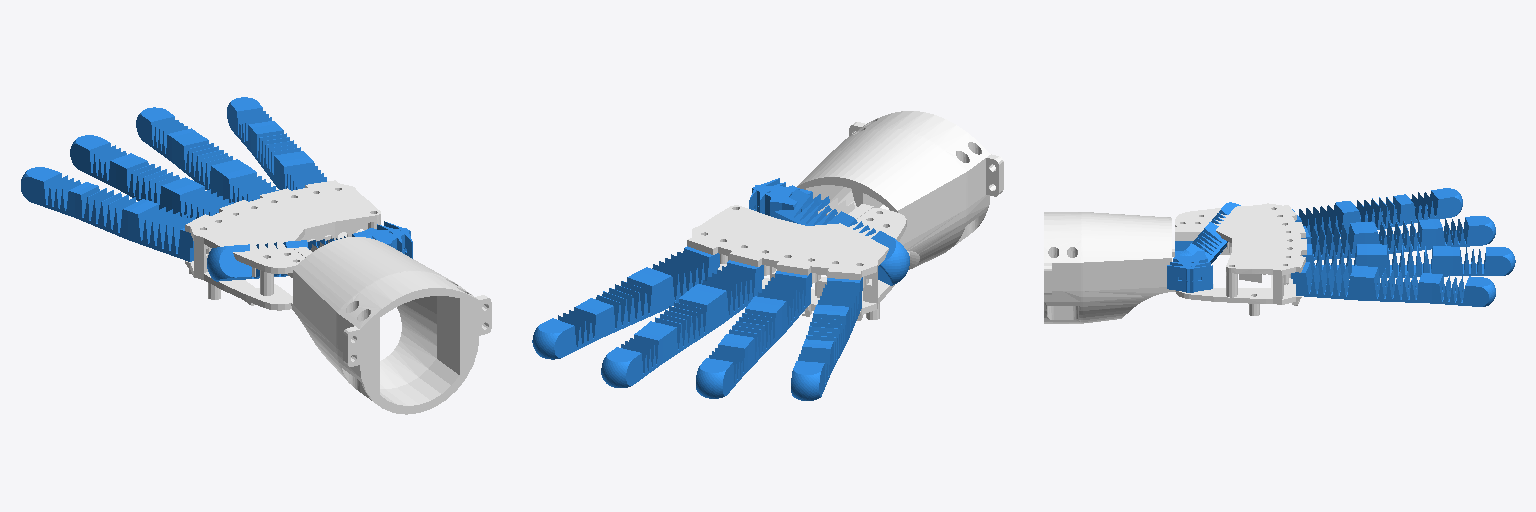
robot.urdf — soft_hand_right_hand_only:
<?xml version='1.0' encoding='utf-8'?>
<robot name="soft_hand_right_hand_only">
  <link name="base_link">
    <inertial>
      <origin xyz="-0.00107591330704606 0.0602157979187562 0.00535241433960498" rpy="0 0 0" />
      <mass value="0.07159" />
      <inertia ixx="0.00053099" ixy="0.00003741" ixz="0.00000288" iyy="0.00020204" iyz="-0.00000817" izz="0.00071323" />
    </inertial>
    <visual>
      <origin xyz="0 0 0" rpy="0 0 0" />
      <geometry>
        <mesh filename="soft_hand_meshes/base_link.STL" />
      </geometry>
      <material name="">
        <color rgba="1 1 1 1" />
      </material>
    </visual>
    <collision>
      <origin xyz="0 0 0" rpy="0 0 0" />
      <geometry>
        <mesh filename="soft_hand_meshes/base_link.STL" />
      </geometry>
    </collision>
  </link>
  <link name="thumb_link_1">
    <inertial>
      <origin xyz="-0.000226412738771394 0.0175408958405082 0.00463891942054738" rpy="0 0 0" />
      <mass value="0.00608" />
      <inertia ixx="0.00003292" ixy="0.00000942" ixz="0.00000000" iyy="0.00000364" iyz="0.00000002" izz="0.00003590" />
    </inertial>
    <visual>
      <origin xyz="0 0 0" rpy="0 0 0" />
      <geometry>
        <mesh filename="soft_hand_meshes/thumb_link_1.STL" />
      </geometry>
      <material name="">
        <color rgba="0.2431 0.6275 0.9922 1" />
      </material>
    </visual>
    <collision>
      <origin xyz="0 0 0" rpy="0 0 0" />
      <geometry>
        <mesh filename="soft_hand_meshes/thumb_link_1.STL" />
      </geometry>
    </collision>
  </link>
  <joint name="thumb_joint_1" type="revolute">
    <origin xyz="0.00370000000000005 0.078 0.00519999999999999" rpy="0 0 -1.5707963267949" />
    <parent link="base_link" />
    <child link="thumb_link_1" />
    <axis xyz="-1 0 0" />
    <limit effort="10" lower="-3.14" upper="3.14" velocity="3.14" />
  </joint>
  <link name="thumb_link_2">
    <inertial>
      <origin xyz="-0.000139719381694098 0.0172591580922161 0.00513230643483387" rpy="0 0 0" />
      <mass value="0.00626" />
      <inertia ixx="0.00003590" ixy="0.00000002" ixz="0.00000000" iyy="0.00000101" iyz="0.00000219" izz="0.00003555" />
    </inertial>
    <visual>
      <origin xyz="0 0 0" rpy="0 0 0" />
      <geometry>
        <mesh filename="soft_hand_meshes/thumb_link_2.STL" />
      </geometry>
      <material name="">
        <color rgba="0.2431 0.6275 0.9922 1" />
      </material>
    </visual>
    <collision>
      <origin xyz="0 0 0" rpy="0 0 0" />
      <geometry>
        <mesh filename="soft_hand_meshes/thumb_link_2.STL" />
      </geometry>
    </collision>
  </link>
  <joint name="thumb_joint_2" type="revolute">
    <origin xyz="0.000134721619996156 0.0352198393444275 0.00520000000000001" rpy="2.79252680319093 -1.5707963267949 0" />
    <parent link="thumb_link_1" />
    <child link="thumb_link_2" />
    <axis xyz="-1 0 0" />
    <limit effort="10" lower="-3.14" upper="3.14" velocity="3.14" />
  </joint>
  <link name="thumb_link_3">
    <inertial>
      <origin xyz="2.13906234059549E-05 0.0139021682913982 0.00411203004701091" rpy="0 0 0" />
      <mass value="0.00402" />
      <inertia ixx="0.00003582" ixy="-0.00000108" ixz="0.00000015" iyy="0.00000101" iyz="0.00000191" izz="0.00003564" />
    </inertial>
    <visual>
      <origin xyz="0 0 0" rpy="0 0 0" />
      <geometry>
        <mesh filename="soft_hand_meshes/thumb_link_3.STL" />
      </geometry>
      <material name="">
        <color rgba="0.2431 0.6275 0.9922 1" />
      </material>
    </visual>
    <collision>
      <origin xyz="0 0 0" rpy="0 0 0" />
      <geometry>
        <mesh filename="soft_hand_meshes/thumb_link_3.STL" />
      </geometry>
    </collision>
  </link>
  <joint name="thumb_joint_3" type="revolute">
    <origin xyz="-0.0026 0.0359371968514815 0.00143765018824065" rpy="0 0.5235987755983 0" />
    <parent link="thumb_link_2" />
    <child link="thumb_link_3" />
    <axis xyz="1 0 0" />
    <limit effort="10" lower="-3.14" upper="3.14" velocity="3.14" />
  </joint>
  <link name="thumb_link_4">
    <inertial>
      <origin xyz="1.4425202060981E-05 0.0138913361178382 0.00460127404940413" rpy="0 0 0" />
      <mass value="0.00474" />
      <inertia ixx="0.00003582" ixy="-0.00000108" ixz="0.00000015" iyy="0.00000101" iyz="0.00000191" izz="0.00003564" />
    </inertial>
    <visual>
      <origin xyz="0 0 0" rpy="0 0 0" />
      <geometry>
        <mesh filename="soft_hand_meshes/thumb_link_4.STL" />
      </geometry>
      <material name="">
        <color rgba="0.2431 0.6275 0.9922 1" />
      </material>
    </visual>
    <collision>
      <origin xyz="0 0 0" rpy="0 0 0" />
      <geometry>
        <mesh filename="soft_hand_meshes/thumb_link_4.STL" />
      </geometry>
    </collision>
  </link>
  <joint name="thumb_joint_4" type="revolute">
    <origin xyz="0 0.0271938395294337 0" rpy="0 0 0" />
    <parent link="thumb_link_3" />
    <child link="thumb_link_4" />
    <axis xyz="-1 0 0" />
    <limit effort="10" lower="-3.14" upper="3.14" velocity="3.14" />
  </joint>
  <link name="thumb_tip"/>
  <joint name="thumb_tip_joint" type="fixed">
    <origin xyz="0 0.0271938395294337 0" rpy="0 0 0" />
    <parent link="thumb_link_4" />
    <child link="thumb_tip" />
  </joint>
  <link name="index_link_1">
    <inertial>
      <origin xyz="7.34582052623958E-06 0.00998124103173685 -0.000753138181571604" rpy="0 0 0" />
      <mass value="0.00285" />
      <inertia ixx="0.00001364" ixy="0.00000000" ixz="0.00000000" iyy="0.00000036" iyz="0.00000001" izz="0.00001365" />
    </inertial>
    <visual>
      <origin xyz="0 0 0" rpy="0 0 0" />
      <geometry>
        <mesh filename="soft_hand_meshes/index_link_1.STL" />
      </geometry>
      <material name="">
        <color rgba="0.2431 0.6275 0.9922 1" />
      </material>
    </visual>
    <collision>
      <origin xyz="0 0 0" rpy="0 0 0" />
      <geometry>
        <mesh filename="soft_hand_meshes/index_link_1.STL" />
      </geometry>
    </collision>
  </link>
  <joint name="index_joint_1" type="revolute">
    <origin xyz="0.0290264592497739 0.132227824075067 0.00740000000000001" rpy="0 0 -0.174532925199432" />
    <parent link="base_link" />
    <child link="index_link_1" />
    <axis xyz="0 0 1" />
    <limit effort="10" lower="-3.14" upper="3.14" velocity="3.14" />
  </joint>
  <link name="index_link_2">
    <inertial>
      <origin xyz="-4.45939051352869E-06 0.0180285034379962 0.00419397703051187" rpy="0 0 0" />
      <mass value="0.00542" />
      <inertia ixx="0.00001364" ixy="0.00000000" ixz="0.00000000" iyy="0.00000036" iyz="0.00000001" izz="0.00001365" />
    </inertial>
    <visual>
      <origin xyz="0 0 0" rpy="0 0 0" />
      <geometry>
        <mesh filename="soft_hand_meshes/index_link_2.STL" />
      </geometry>
      <material name="">
        <color rgba="0.2431 0.6275 0.9922 1" />
      </material>
    </visual>
    <collision>
      <origin xyz="0 0 0" rpy="0 0 0" />
      <geometry>
        <mesh filename="soft_hand_meshes/index_link_2.STL" />
      </geometry>
    </collision>
  </link>
  <joint name="index_joint_2" type="revolute">
    <origin xyz="0 0.021 -0.0052" rpy="0 0 0" />
    <parent link="index_link_1" />
    <child link="index_link_2" />
    <axis xyz="-1 0 0" />
    <limit effort="10" lower="-3.14" upper="3.14" velocity="3.14" />
  </joint>
  <link name="index_link_3">
    <inertial>
      <origin xyz="-4.33680868994202E-18 0.0152283515003216 0.00395398428215677" rpy="0 0 0" />
      <mass value="0.00369" />
      <inertia ixx="0.00001364" ixy="0.00000000" ixz="0.00000000" iyy="0.00000036" iyz="0.00000001" izz="0.00001365" />
    </inertial>
    <visual>
      <origin xyz="0 0 0" rpy="0 0 0" />
      <geometry>
        <mesh filename="soft_hand_meshes/index_link_3.STL" />
      </geometry>
      <material name="">
        <color rgba="0.2431 0.6275 0.9922 1" />
      </material>
    </visual>
    <collision>
      <origin xyz="0 0 0" rpy="0 0 0" />
      <geometry>
        <mesh filename="soft_hand_meshes/index_link_3.STL" />
      </geometry>
    </collision>
  </link>
  <joint name="index_joint_3" type="revolute">
    <origin xyz="0 0.0368687904272322 0.000296635651980327" rpy="0 0 0" />
    <parent link="index_link_2" />
    <child link="index_link_3" />
    <axis xyz="-1 0 0" />
    <limit effort="10" lower="-3.14" upper="3.14" velocity="3.14" />
  </joint>
  <link name="index_link_4">
    <inertial>
      <origin xyz="-1.15218754068863E-09 0.0121089138242129 0.00398608556627066" rpy="0 0 0" />
      <mass value="0.00302" />
      <inertia ixx="0.00001364" ixy="0.00000000" ixz="0.00000000" iyy="0.00000036" iyz="0.00000001" izz="0.00001365" />
    </inertial>
    <visual>
      <origin xyz="0 0 0" rpy="0 0 0" />
      <geometry>
        <mesh filename="soft_hand_meshes/index_link_4.STL" />
      </geometry>
      <material name="">
        <color rgba="0.2431 0.6275 0.9922 1" />
      </material>
    </visual>
    <collision>
      <origin xyz="0 0 0" rpy="0 0 0" />
      <geometry>
        <mesh filename="soft_hand_meshes/index_link_4.STL" />
      </geometry>
    </collision>
  </link>
  <joint name="index_joint_4" type="revolute">
    <origin xyz="0 0.0304312095727678 0.000503364348019689" rpy="0 0 0" />
    <parent link="index_link_3" />
    <child link="index_link_4" />
    <axis xyz="-1 0 0" />
    <limit effort="10" lower="-3.14" upper="3.14" velocity="3.14" />
  </joint>
  <link name="index_tip"/>
  <joint name="index_tip_joint" type="fixed">
    <origin xyz="0 0.0304312095727678 0.000503364348019689" rpy="0 0 0" />
    <parent link="index_link_4" />
    <child link="index_tip" />
  </joint>
  <link name="middle_link_1">
    <inertial>
      <origin xyz="7.34582052623828E-06 0.00998124103173684 -0.000753138181571605" rpy="0 0 0" />
      <mass value="0.00285" />
      <inertia ixx="0.00001364" ixy="0.00000000" ixz="0.00000000" iyy="0.00000036" iyz="0.00000001" izz="0.00001365" />
    </inertial>
    <visual>
      <origin xyz="0 0 0" rpy="0 0 0" />
      <geometry>
        <mesh filename="soft_hand_meshes/middle_link_1.STL" />
      </geometry>
      <material name="">
        <color rgba="0.2431 0.6275 0.9922 1" />
      </material>
    </visual>
    <collision>
      <origin xyz="0 0 0" rpy="0 0 0" />
      <geometry>
        <mesh filename="soft_hand_meshes/middle_link_1.STL" />
      </geometry>
    </collision>
  </link>
  <joint name="middle_joint_1" type="revolute">
    <origin xyz="0.00792668643854304 0.134056317266317 0.0074" rpy="0 0 0" />
    <parent link="base_link" />
    <child link="middle_link_1" />
    <axis xyz="0 0 1" />
    <limit effort="10" lower="-3.14" upper="3.14" velocity="3.14" />
  </joint>
  <link name="middle_link_2">
    <inertial>
      <origin xyz="-3.90732225506556E-06 0.0197375527466092 0.00432598503053492" rpy="0 0 0" />
      <mass value="0.00619" />
      <inertia ixx="0.00001491" ixy="0.00000000" ixz="0.00000000" iyy="0.00000038" iyz="-0.00000010" izz="0.00001492" />
    </inertial>
    <visual>
      <origin xyz="0 0 0" rpy="0 0 0" />
      <geometry>
        <mesh filename="soft_hand_meshes/middle_link_2.STL" />
      </geometry>
      <material name="">
        <color rgba="0.2431 0.6275 0.9922 1" />
      </material>
    </visual>
    <collision>
      <origin xyz="0 0 0" rpy="0 0 0" />
      <geometry>
        <mesh filename="soft_hand_meshes/middle_link_2.STL" />
      </geometry>
    </collision>
  </link>
  <joint name="middle_joint_2" type="revolute">
    <origin xyz="0 0.021 -0.0052" rpy="0 0 0" />
    <parent link="middle_link_1" />
    <child link="middle_link_2" />
    <axis xyz="1 0 0" />
    <limit effort="10" lower="-3.14" upper="3.14" velocity="3.14" />
  </joint>
  <link name="middle_link_3">
    <inertial>
      <origin xyz="-1.73472347597681E-18 0.0170249388865513 0.00408489337994659" rpy="0 0 0" />
      <mass value="0.00435" />
      <inertia ixx="0.00001491" ixy="0.00000000" ixz="0.00000000" iyy="0.00000038" iyz="-0.00000010" izz="0.00001492" />
    </inertial>
    <visual>
      <origin xyz="0 0 0" rpy="0 0 0" />
      <geometry>
        <mesh filename="soft_hand_meshes/middle_link_3.STL" />
      </geometry>
      <material name="">
        <color rgba="0.2431 0.6275 0.9922 1" />
      </material>
    </visual>
    <collision>
      <origin xyz="0 0 0" rpy="0 0 0" />
      <geometry>
        <mesh filename="soft_hand_meshes/middle_link_3.STL" />
      </geometry>
    </collision>
  </link>
  <joint name="middle_joint_3" type="revolute">
    <origin xyz="0 0.0403569419683146 0.00029689004278945" rpy="0 0 0" />
    <parent link="middle_link_2" />
    <child link="middle_link_3" />
    <axis xyz="-1 0 0" />
    <limit effort="10" lower="-3.14" upper="3.14" velocity="3.14" />
  </joint>
  <link name="middle_link_4">
    <inertial>
      <origin xyz="-3.90312782094782E-18 0.0121089069741908 0.00398608606992765" rpy="0 0 0" />
      <mass value="0.00302" />
      <inertia ixx="0.00001364" ixy="0.00000000" ixz="0.00000000" iyy="0.00000036" iyz="0.00000001" izz="0.00001365" />
    </inertial>
    <visual>
      <origin xyz="0 0 0" rpy="0 0 0" />
      <geometry>
        <mesh filename="soft_hand_meshes/middle_link_4.STL" />
      </geometry>
      <material name="">
        <color rgba="0.2431 0.6275 0.9922 1" />
      </material>
    </visual>
    <collision>
      <origin xyz="0 0 0" rpy="0 0 0" />
      <geometry>
        <mesh filename="soft_hand_meshes/middle_link_4.STL" />
      </geometry>
    </collision>
  </link>
  <joint name="middle_joint_4" type="revolute">
    <origin xyz="0 0.0339430580316854 0.000503109957210555" rpy="0 0 0" />
    <parent link="middle_link_3" />
    <child link="middle_link_4" />
    <axis xyz="-1 0 0" />
    <limit effort="10" lower="-3.14" upper="3.14" velocity="3.14" />
  </joint>
  <link name="middle_tip"/>
  <joint name="middle_tip_joint" type="fixed">
    <origin xyz="0 0.0339430580316854 0.000503109957210555" rpy="0 0 0" />
    <parent link="middle_link_4" />
    <child link="middle_tip" />
  </joint>
  <link name="ring_link_1">
    <inertial>
      <origin xyz="7.34582052621681E-06 0.00998124103173681 -0.000753138181571607" rpy="0 0 0" />
      <mass value="0.00285" />
      <inertia ixx="0.00001364" ixy="0.00000000" ixz="0.00000000" iyy="0.00000036" iyz="0.00000001" izz="0.00001365" />
    </inertial>
    <visual>
      <origin xyz="0 0 0" rpy="0 0 0" />
      <geometry>
        <mesh filename="soft_hand_meshes/ring_link_1.STL" />
      </geometry>
      <material name="">
        <color rgba="0.2431 0.6275 0.9922 1" />
      </material>
    </visual>
    <collision>
      <origin xyz="0 0 0" rpy="0 0 0" />
      <geometry>
        <mesh filename="soft_hand_meshes/ring_link_1.STL" />
      </geometry>
    </collision>
  </link>
  <joint name="ring_joint_1" type="revolute">
    <origin xyz="-0.0131700479232904 0.132193094439533 0.0074" rpy="0 0 0.174532925199432" />
    <parent link="base_link" />
    <child link="ring_link_1" />
    <axis xyz="0 0 1" />
    <limit effort="10" lower="-3.14" upper="3.14" velocity="3.14" />
  </joint>
  <link name="ring_link_2">
    <inertial>
      <origin xyz="-4.45939051352826E-06 0.0180285034379961 0.00419397703051187" rpy="0 0 0" />
      <mass value="0.00542" />
      <inertia ixx="0.00001364" ixy="0.00000000" ixz="0.00000000" iyy="0.00000036" iyz="0.00000001" izz="0.00001365" />
    </inertial>
    <visual>
      <origin xyz="0 0 0" rpy="0 0 0" />
      <geometry>
        <mesh filename="soft_hand_meshes/ring_link_2.STL" />
      </geometry>
      <material name="">
        <color rgba="0.2431 0.6275 0.9922 1" />
      </material>
    </visual>
    <collision>
      <origin xyz="0 0 0" rpy="0 0 0" />
      <geometry>
        <mesh filename="soft_hand_meshes/ring_link_2.STL" />
      </geometry>
    </collision>
  </link>
  <joint name="ring_joint_2" type="revolute">
    <origin xyz="0 0.021 -0.0052" rpy="0 0 0" />
    <parent link="ring_link_1" />
    <child link="ring_link_2" />
    <axis xyz="-1 0 0" />
    <limit effort="10" lower="-3.14" upper="3.14" velocity="3.14" />
  </joint>
  <link name="ring_link_3">
    <inertial>
      <origin xyz="-2.60208521396521E-18 0.0152283515003216 0.00395398428215676" rpy="0 0 0" />
      <mass value="0.00369" />
      <inertia ixx="0.00001364" ixy="0.00000000" ixz="0.00000000" iyy="0.00000036" iyz="0.00000001" izz="0.00001365" />
    </inertial>
    <visual>
      <origin xyz="0 0 0" rpy="0 0 0" />
      <geometry>
        <mesh filename="soft_hand_meshes/ring_link_3.STL" />
      </geometry>
      <material name="">
        <color rgba="0.2431 0.6275 0.9922 1" />
      </material>
    </visual>
    <collision>
      <origin xyz="0 0 0" rpy="0 0 0" />
      <geometry>
        <mesh filename="soft_hand_meshes/ring_link_3.STL" />
      </geometry>
    </collision>
  </link>
  <joint name="ring_joint_3" type="revolute">
    <origin xyz="0 0.0368687904272322 0.000296635651980289" rpy="0 0 0" />
    <parent link="ring_link_2" />
    <child link="ring_link_3" />
    <axis xyz="-1 0 0" />
    <limit effort="10" lower="-3.14" upper="3.14" velocity="3.14" />
  </joint>
  <link name="ring_link_4">
    <inertial>
      <origin xyz="1.15218753060555E-09 0.0121089138242128 0.00398608748395716" rpy="0 0 0" />
      <mass value="0.00302" />
      <inertia ixx="0.00001364" ixy="0.00000000" ixz="0.00000000" iyy="0.00000036" iyz="0.00000001" izz="0.00001365" />
    </inertial>
    <visual>
      <origin xyz="0 0 0" rpy="0 0 0" />
      <geometry>
        <mesh filename="soft_hand_meshes/ring_link_4.STL" />
      </geometry>
      <material name="">
        <color rgba="0.2431 0.6275 0.9922 1" />
      </material>
    </visual>
    <collision>
      <origin xyz="0 0 0" rpy="0 0 0" />
      <geometry>
        <mesh filename="soft_hand_meshes/ring_link_4.STL" />
      </geometry>
    </collision>
  </link>
  <joint name="ring_joint_4" type="revolute">
    <origin xyz="0 0.0304312095727678 0.00050336434801964" rpy="0 0 0" />
    <parent link="ring_link_3" />
    <child link="ring_link_4" />
    <axis xyz="-1 0 0" />
    <limit effort="10" lower="-3.14" upper="3.14" velocity="3.14" />
  </joint>
  <link name="ring_tip"/>
  <joint name="ring_tip_joint" type="fixed">
    <origin xyz="0 0.0304312095727678 0.00050336434801964" rpy="0 0 0" />
    <parent link="ring_link_4" />
    <child link="ring_tip" />
  </joint>
  <link name="little_link_1">
    <inertial>
      <origin xyz="7.34582052624305E-06 0.00998124103173681 -0.000753138181571604" rpy="0 0 0" />
      <mass value="0.00285" />
      <inertia ixx="0.00001364" ixy="0.00000000" ixz="0.00000000" iyy="0.00000036" iyz="0.00000001" izz="0.00001365" />
    </inertial>
    <visual>
      <origin xyz="0 0 0" rpy="0 0 0" />
      <geometry>
        <mesh filename="soft_hand_meshes/little_link_1.STL" />
      </geometry>
      <material name="">
        <color rgba="0.2431 0.6275 0.9922 1" />
      </material>
    </visual>
    <collision>
      <origin xyz="0 0 0" rpy="0 0 0" />
      <geometry>
        <mesh filename="soft_hand_meshes/little_link_1.STL" />
      </geometry>
    </collision>
  </link>
  <joint name="little_joint_1" type="revolute">
    <origin xyz="-0.0336227302376028 0.126694768677472 0.00740000000000001" rpy="0 0 0.349065850398854" />
    <parent link="base_link" />
    <child link="little_link_1" />
    <axis xyz="0 0 1" />
    <limit effort="10" lower="-3.14" upper="3.14" velocity="3.14" />
  </joint>
  <link name="little_link_2">
    <inertial>
      <origin xyz="-5.33895188253777E-06 0.0160364332506722 0.00399282351911505" rpy="0 0 0" />
      <mass value="0.00452" />
      <inertia ixx="0.00000972" ixy="0.00000000" ixz="0.00000000" iyy="0.00000030" iyz="-0.00000008" izz="0.00000973" />
    </inertial>
    <visual>
      <origin xyz="0 0 0" rpy="0 0 0" />
      <geometry>
        <mesh filename="soft_hand_meshes/little_link_2.STL" />
      </geometry>
      <material name="">
        <color rgba="0.2431 0.6275 0.9922 1" />
      </material>
    </visual>
    <collision>
      <origin xyz="0 0 0" rpy="0 0 0" />
      <geometry>
        <mesh filename="soft_hand_meshes/little_link_2.STL" />
      </geometry>
    </collision>
  </link>
  <joint name="little_joint_2" type="revolute">
    <origin xyz="0 0.021 -0.00520000000000001" rpy="0 0 0" />
    <parent link="little_link_1" />
    <child link="little_link_2" />
    <axis xyz="-1 0 0" />
    <limit effort="10" lower="-3.14" upper="3.14" velocity="3.14" />
  </joint>
  <link name="little_link_3">
    <inertial>
      <origin xyz="-4.33680868994202E-18 0.0130999746355155 0.00375300481992083" rpy="0 0 0" />
      <mass value="0.00296" />
      <inertia ixx="0.00000972" ixy="0.00000000" ixz="0.00000000" iyy="0.00000030" iyz="-0.00000008" izz="0.00000973" />
    </inertial>
    <visual>
      <origin xyz="0 0 0" rpy="0 0 0" />
      <geometry>
        <mesh filename="soft_hand_meshes/little_link_3.STL" />
      </geometry>
      <material name="">
        <color rgba="0.2431 0.6275 0.9922 1" />
      </material>
    </visual>
    <collision>
      <origin xyz="0 0 0" rpy="0 0 0" />
      <geometry>
        <mesh filename="soft_hand_meshes/little_link_3.STL" />
      </geometry>
    </collision>
  </link>
  <joint name="little_joint_3" type="revolute">
    <origin xyz="0 0.032882349965288 0.00029620483758994" rpy="0 0 0" />
    <parent link="little_link_2" />
    <child link="little_link_3" />
    <axis xyz="-1 0 0" />
    <limit effort="10" lower="-3.14" upper="3.14" velocity="3.14" />
  </joint>
  <link name="little_link_4">
    <inertial>
      <origin xyz="1.20501740096673E-09 0.0121089190108057 0.00398608786062623" rpy="0 0 0" />
      <mass value="0.00302" />
      <inertia ixx="0.00001364" ixy="0.00000000" ixz="0.00000000" iyy="0.00000036" iyz="0.00000001" izz="0.00001365" />
    </inertial>
    <visual>
      <origin xyz="0 0 0" rpy="0 0 0" />
      <geometry>
        <mesh filename="soft_hand_meshes/little_link_4.STL" />
      </geometry>
      <material name="">
        <color rgba="0.2431 0.6275 0.9922 1" />
      </material>
    </visual>
    <collision>
      <origin xyz="0 0 0" rpy="0 0 0" />
      <geometry>
        <mesh filename="soft_hand_meshes/little_link_4.STL" />
      </geometry>
    </collision>
  </link>
  <joint name="little_joint_4" type="revolute">
    <origin xyz="0 0.0264176500347119 0.000503795162410104" rpy="0 0 0" />
    <parent link="little_link_3" />
    <child link="little_link_4" />
    <axis xyz="-1 0 0" />
    <limit effort="10" lower="-3.14" upper="3.14" velocity="3.14" />
  </joint>
  <link name="little_tip"/>
  <joint name="little_tip_joint" type="fixed">
    <origin xyz="0 0.0264176500347119 0.000503795162410104" rpy="0 0 0" />
    <parent link="little_link_4" />
    <child link="little_tip" />
  </joint>
</robot>

--- Render facts (derived) ---
The picture shows the robot from 3 angles, left to right: view 1: azimuth 30°, elevation 25°; view 2: azimuth 150°, elevation 25°; view 3: azimuth 270°, elevation 25°; orthographic projection.
Robot: soft_hand_right_hand_only — 26 links, 25 joints (20 revolute, 5 fixed); root link base_link; default pose: every joint at zero.
Links seen in each view (by area): view 1: base_link, little_link_2, middle_link_2, ring_link_2, middle_link_3, ring_link_3, little_link_3, index_link_2, index_link_3, little_link_4, thumb_link_4, little_link_1 (+4 smaller); view 2: base_link, index_link_2, middle_link_2, ring_link_2, index_link_3, middle_link_3, index_link_4, middle_link_4, ring_link_4, ring_link_3, little_link_2, little_link_4 (+9 smaller); view 3: base_link, index_link_2, ring_link_2, index_link_3, middle_link_2, middle_link_3, ring_link_3, little_link_2, little_link_3, thumb_link_2, index_link_4, ring_link_4 (+6 smaller).
Link boxes in pixels (<box>): base_link: <box>185,180,491,414</box>; little_link_2: <box>102,193,173,250</box>; middle_link_2: <box>198,150,266,202</box>; ring_link_2: <box>144,169,216,218</box>; middle_link_3: <box>159,123,219,182</box>; ring_link_3: <box>100,148,165,200</box>; little_link_3: <box>56,178,120,228</box>; index_link_2: <box>266,141,320,190</box>; index_link_3: <box>243,114,293,171</box>; little_link_4: <box>21,167,67,210</box>; thumb_link_4: <box>207,243,267,281</box>; little_link_1: <box>159,212,194,261</box>; base_link: <box>687,111,1003,320</box>; index_link_2: <box>615,258,690,323</box>; middle_link_2: <box>669,273,740,343</box>; ring_link_2: <box>739,285,795,352</box>; index_link_3: <box>569,288,632,345</box>; middle_link_3: <box>629,310,691,372</box>; index_link_4: <box>532,313,585,359</box>; middle_link_4: <box>601,341,649,387</box>; ring_link_4: <box>696,351,738,398</box>; ring_link_3: <box>715,321,764,380</box>; little_link_2: <box>810,292,854,355</box>; little_link_4: <box>791,354,827,400</box>; base_link: <box>1044,203,1306,323</box>; index_link_2: <box>1328,264,1395,301</box>; ring_link_2: <box>1332,221,1399,258</box>; index_link_3: <box>1396,270,1451,304</box>; middle_link_2: <box>1334,244,1409,278</box>; middle_link_3: <box>1410,246,1472,277</box>; ring_link_3: <box>1396,219,1455,252</box>; little_link_2: <box>1320,199,1379,238</box>; little_link_3: <box>1372,192,1425,228</box>; thumb_link_2: <box>1167,238,1218,292</box>; index_link_4: <box>1452,276,1495,306</box>; ring_link_4: <box>1456,216,1495,246</box>.
Size in the robot's own frame: 0.1274 by 0.252 by 0.059 metres.
Meshes: 21 distinct files referenced, 21 mesh visuals loaded (21 binary STL).
